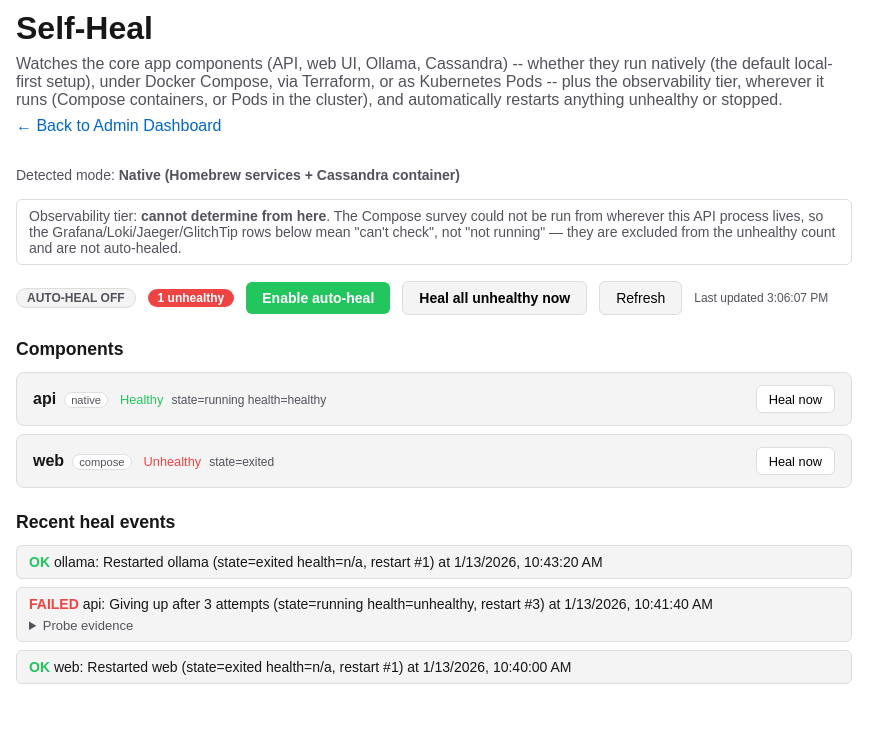
Test case: SelfHealPage › walks every heal-error fallback branch and a non-Error heal rejection
Click the button "Heal all unhealthy now".
click(495, 298)  # box [402, 281, 587, 315]
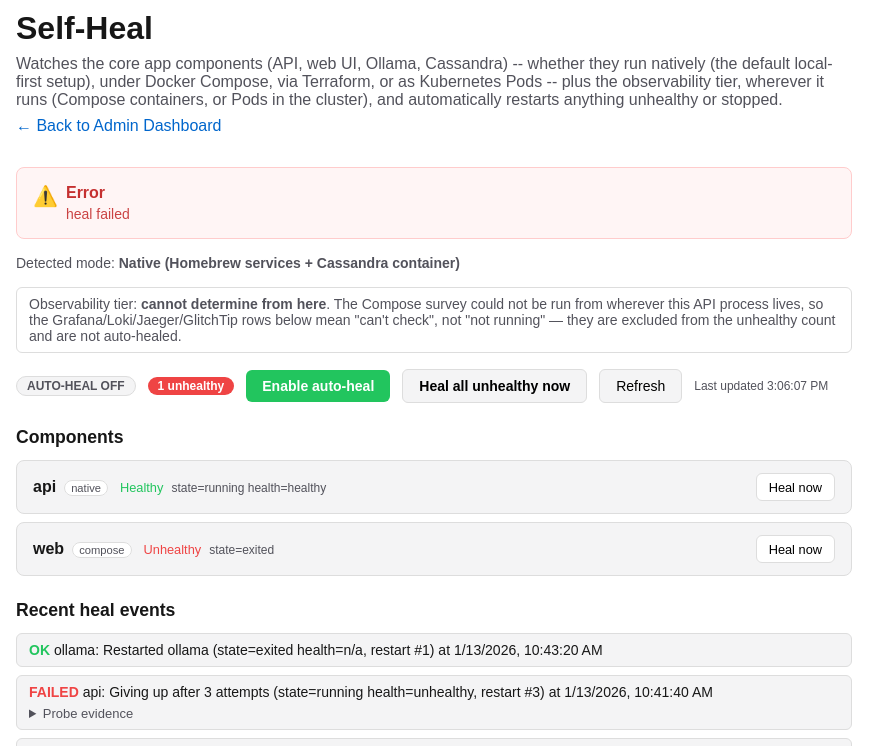
expect the text "heal failed" is shown: met, box [66, 206, 130, 222]
Click the button "Heal all unhealthy now".
click(495, 386)  # box [402, 369, 587, 403]
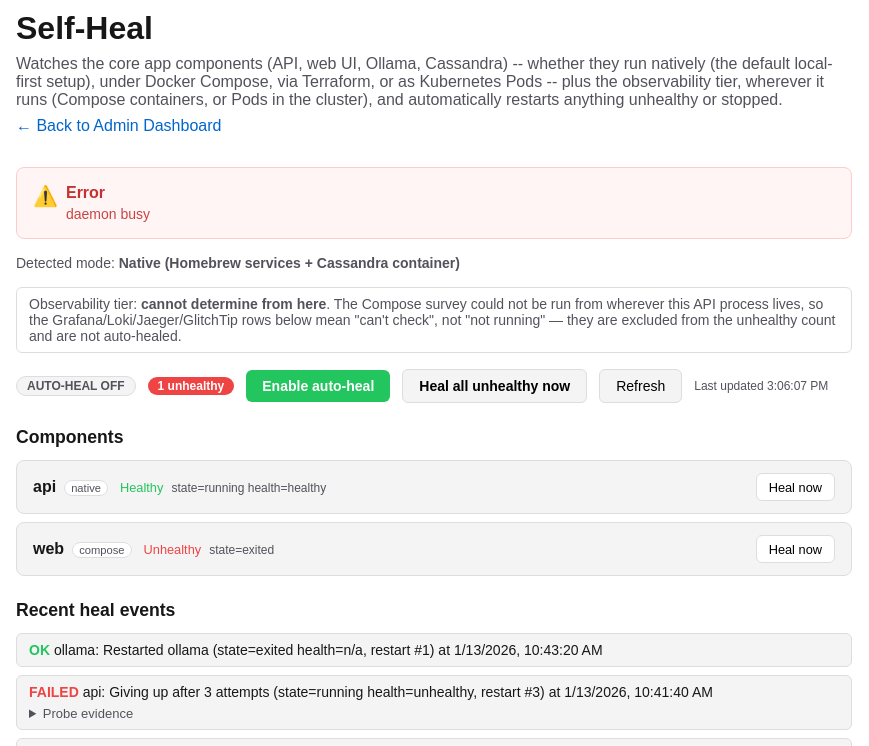
expect the text "daemon busy" is shown: met, box [66, 206, 150, 222]
Click the button "Heal all unhealthy now".
click(495, 386)  # box [402, 369, 587, 403]
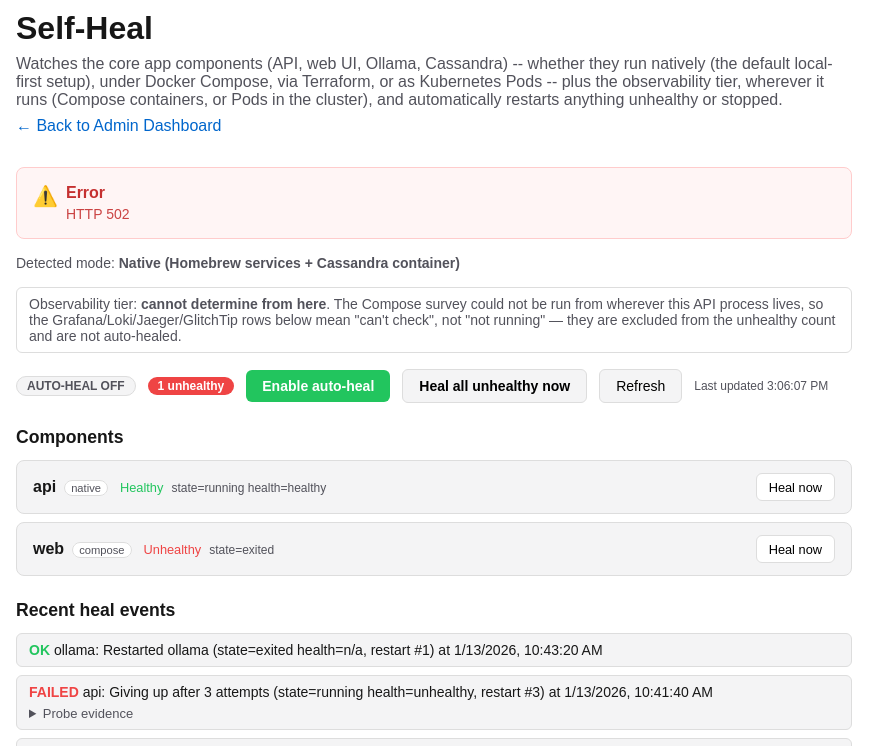
expect the text "HTTP 502" is shown: met, box [66, 206, 130, 222]
Click the button "Heal all unhealthy now".
click(495, 386)  # box [402, 369, 587, 403]
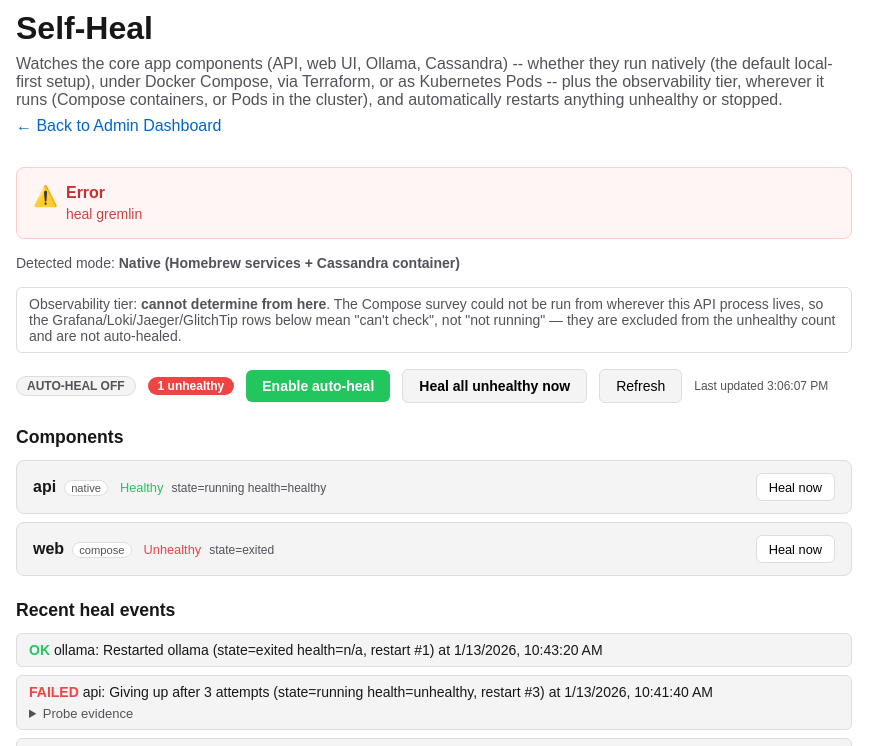
expect the text "heal gremlin" is shown: met, box [66, 206, 142, 222]
